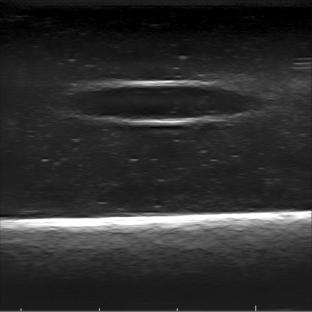vessel: (67, 78, 263, 125)
